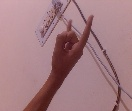hand: (51, 14, 96, 80)
